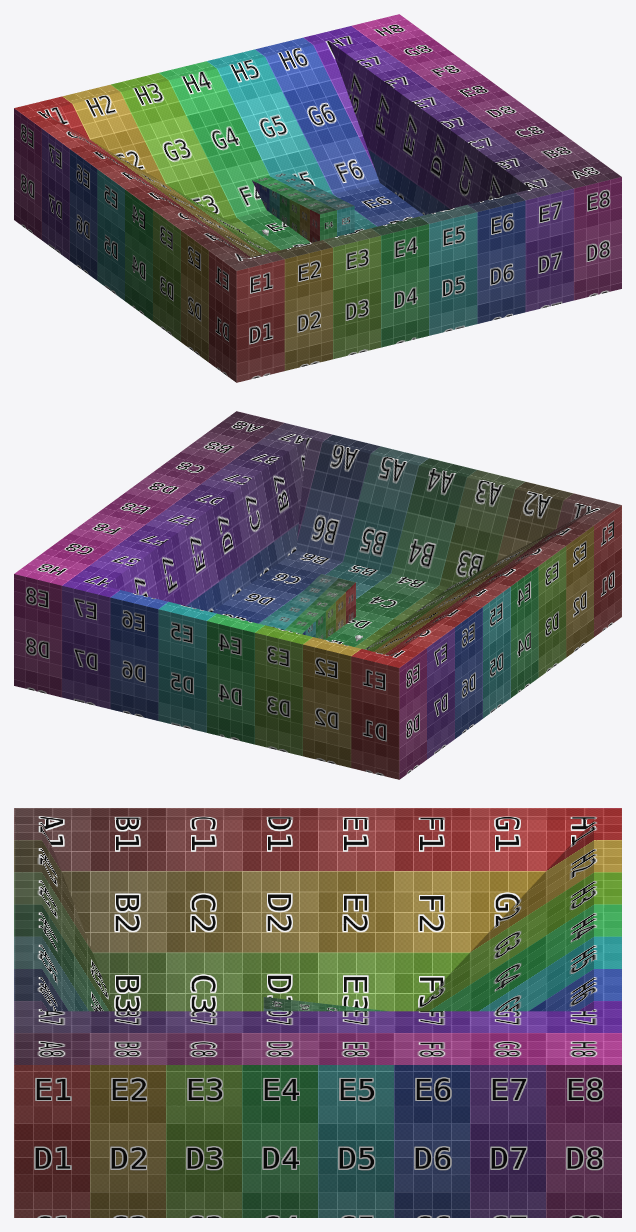
Rendered from havok_fp.glb.
3 views of the same model, one above another, from view 1: azimuth 30°, elevation 25°; view 2: azimuth 150°, elevation 25°; view 3: azimuth 270°, elevation 25° (orthographic). The views are drawn at different scales.
Parts seen in each view (by area): view 1: walls#col, Cube#col; view 2: walls#col, Cube#col; view 3: walls#col, Cube#col.
Part boxes in pixels (x1,y1,x2,y2): walls#col: [14, 14, 621, 382]; Cube#col: [252, 172, 354, 242]; walls#col: [14, 411, 621, 779]; Cube#col: [267, 574, 355, 639]; walls#col: [14, 808, 621, 1217]; Cube#col: [263, 997, 388, 1011].
Size of the model in its own units: 125 by 34.7 by 125.
2 materials, 1 textured.
